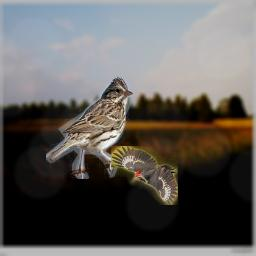Sparrow: (46, 76, 133, 179)
Woodpecker: (111, 146, 178, 205)
